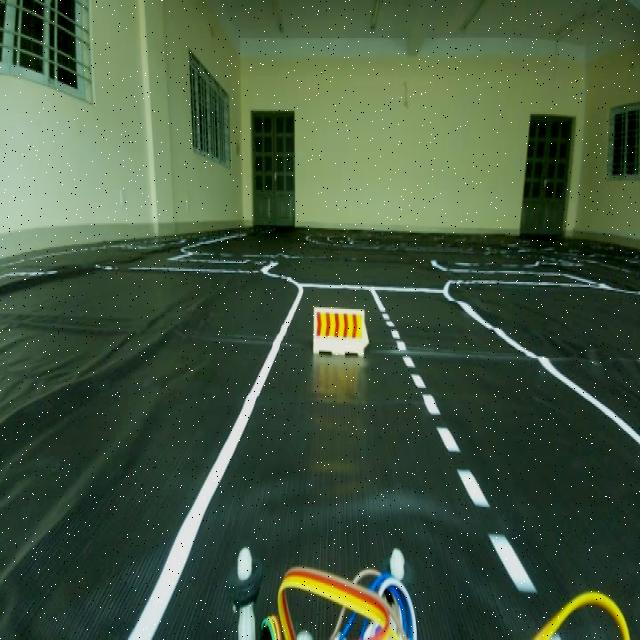roadblock: (306, 294, 378, 376)
